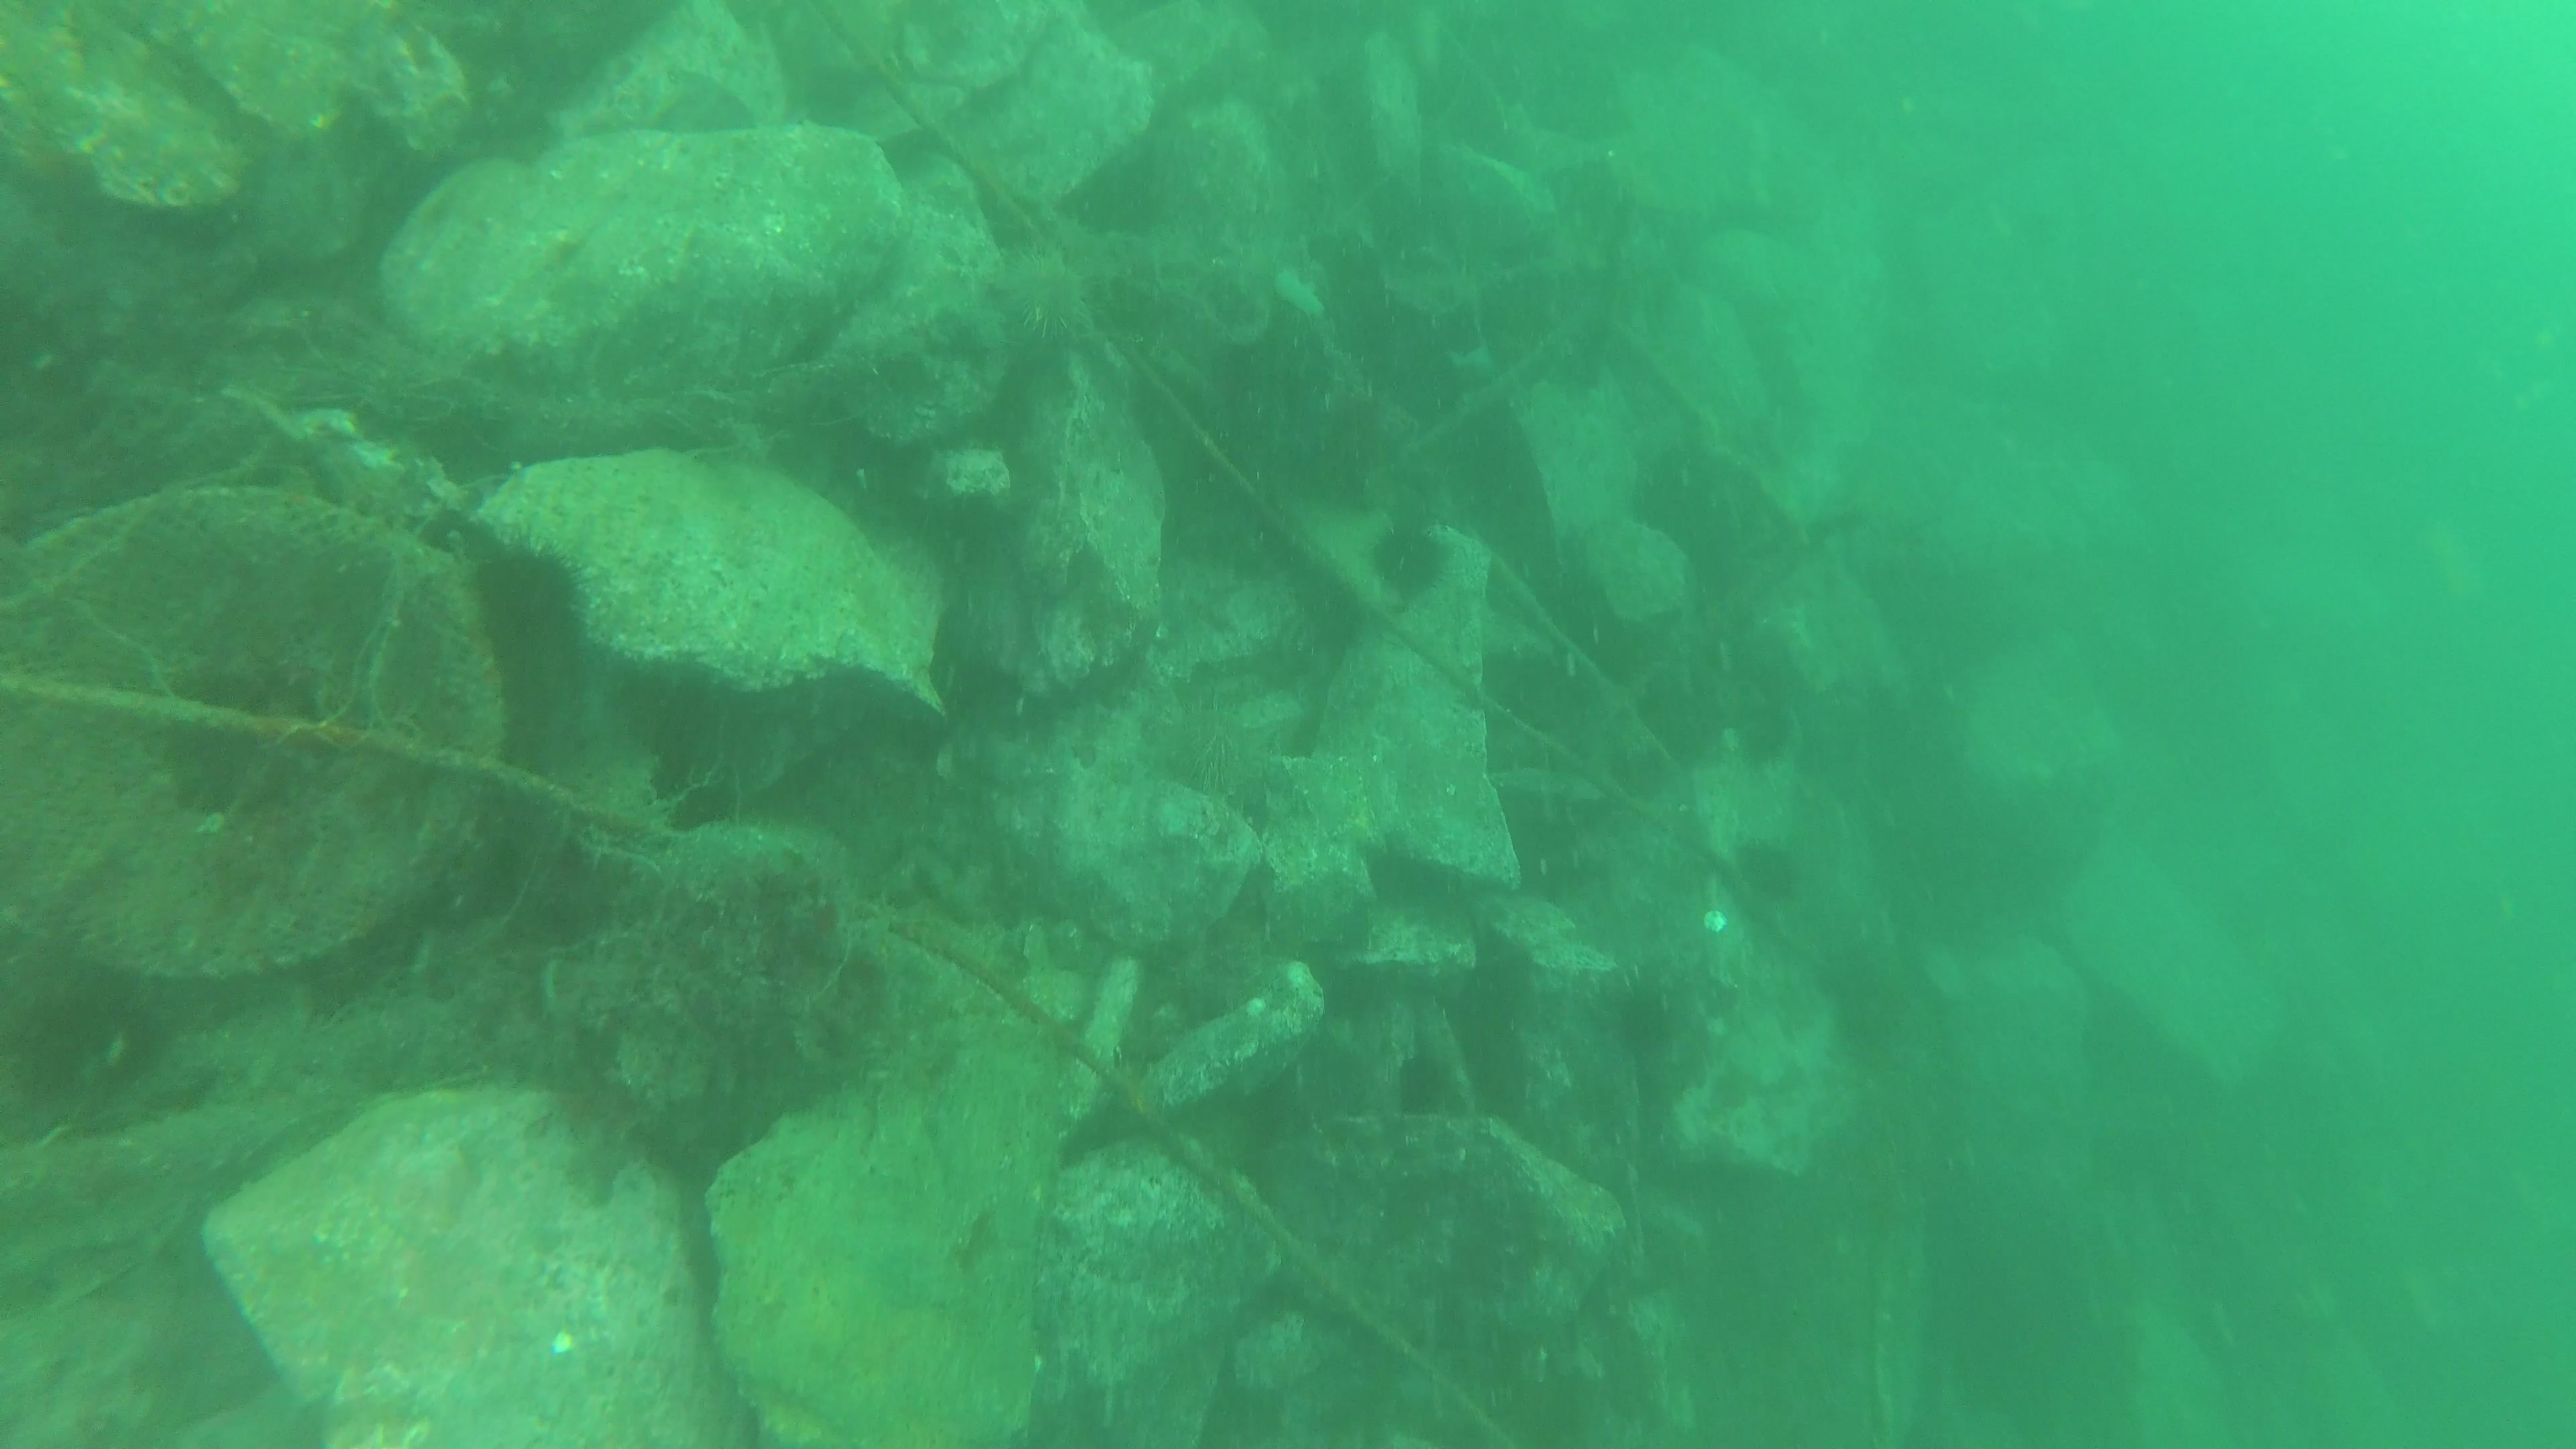echinus: (977, 237, 1108, 356), (1164, 685, 1281, 810), (1368, 513, 1458, 609)
